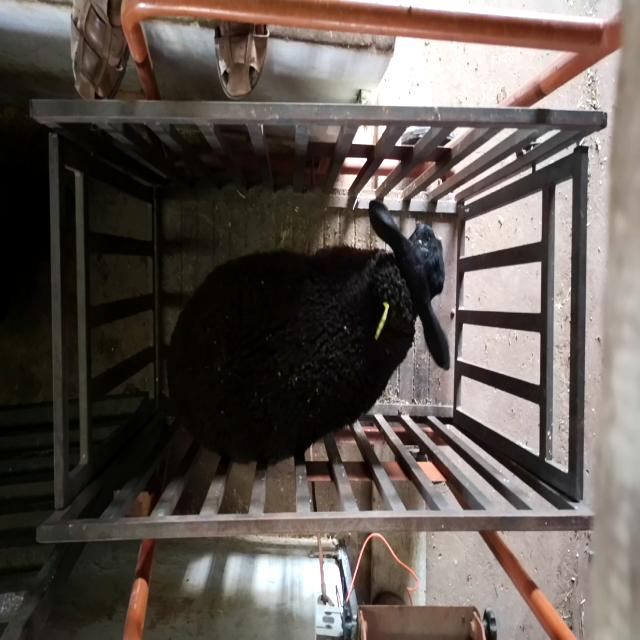sheep: (165, 200, 450, 465)
